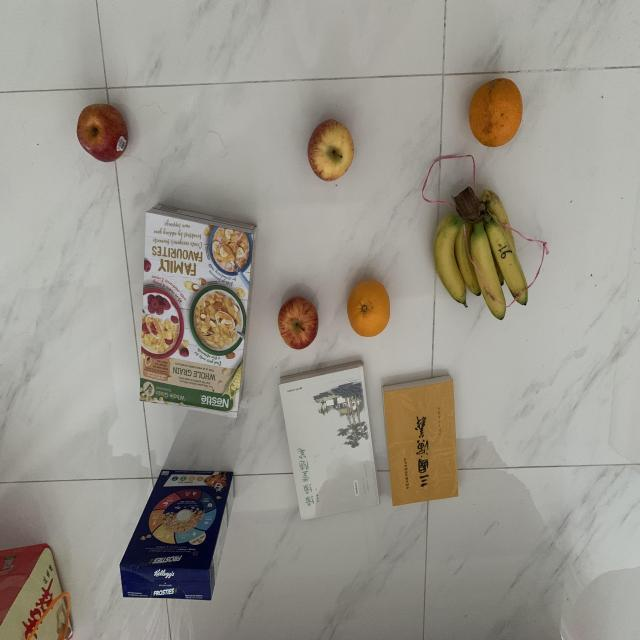Apple: (69, 98, 134, 168), (304, 116, 356, 188), (274, 292, 318, 350)
Banana: (431, 184, 534, 326)
Book: (276, 359, 382, 524), (379, 373, 460, 510)
Cerealbox: (134, 192, 262, 418), (119, 457, 237, 606)
Orange: (467, 75, 527, 150), (340, 272, 394, 344)
